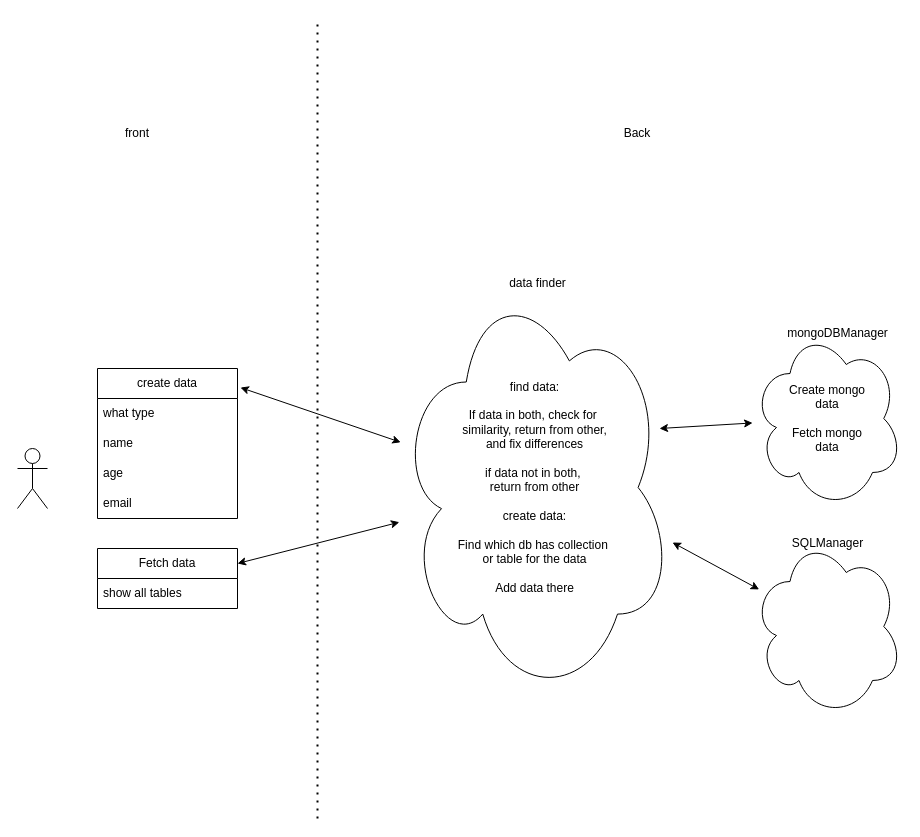
This 920x837 diagram has some shape labels left out. The shapes that lost their labels are listed below. From the top down, each one's centre as x and y in pixels, then its label:
At (x=32, y=478): "Actor".
At (x=827, y=626): "Create SQL data Fetch SQL data".
